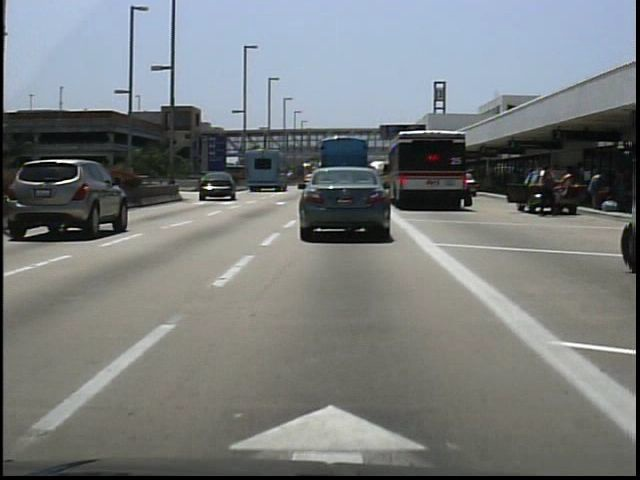person: (533, 162, 560, 219)
